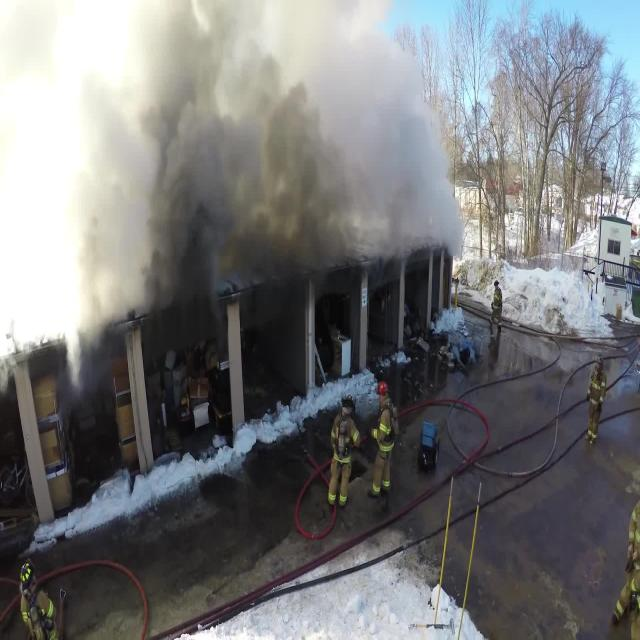smoke: (124, 55, 440, 288)
